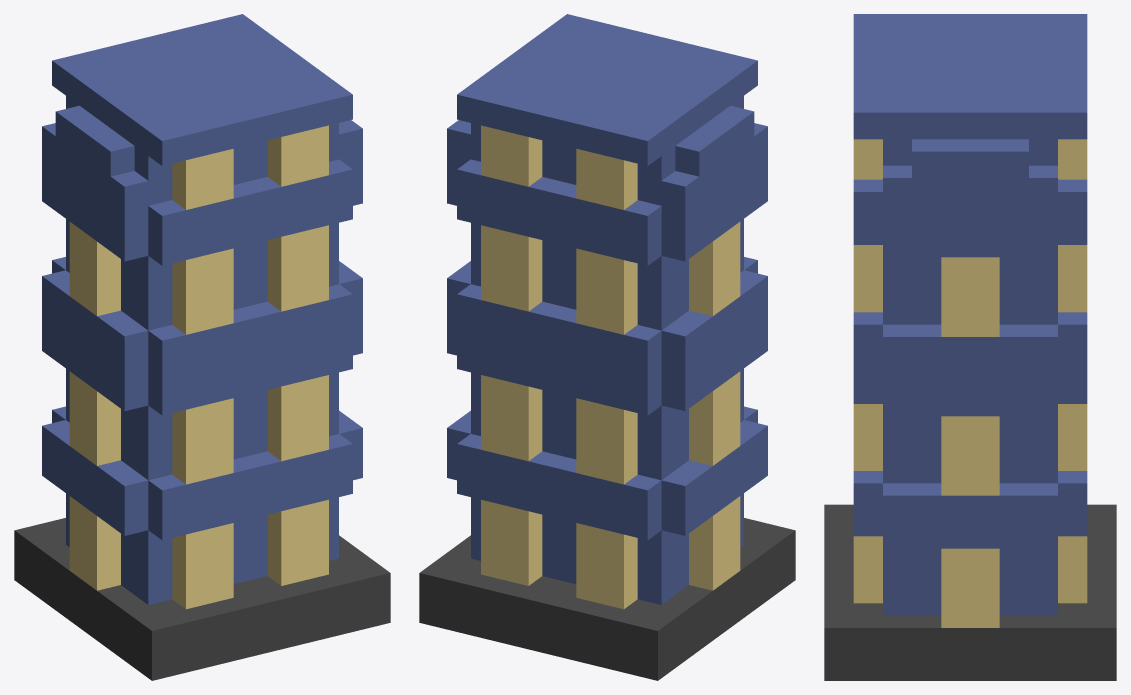
File: building6.obj
3 renders of one model, left to right at view 1: azimuth 30°, elevation 25°; view 2: azimuth 150°, elevation 25°; view 3: azimuth 270°, elevation 25°, orthographic. The views are drawn at different scales.
Bounding box in the file's own units: 1 × 2.1 × 1.
1 material, 1 textured.
